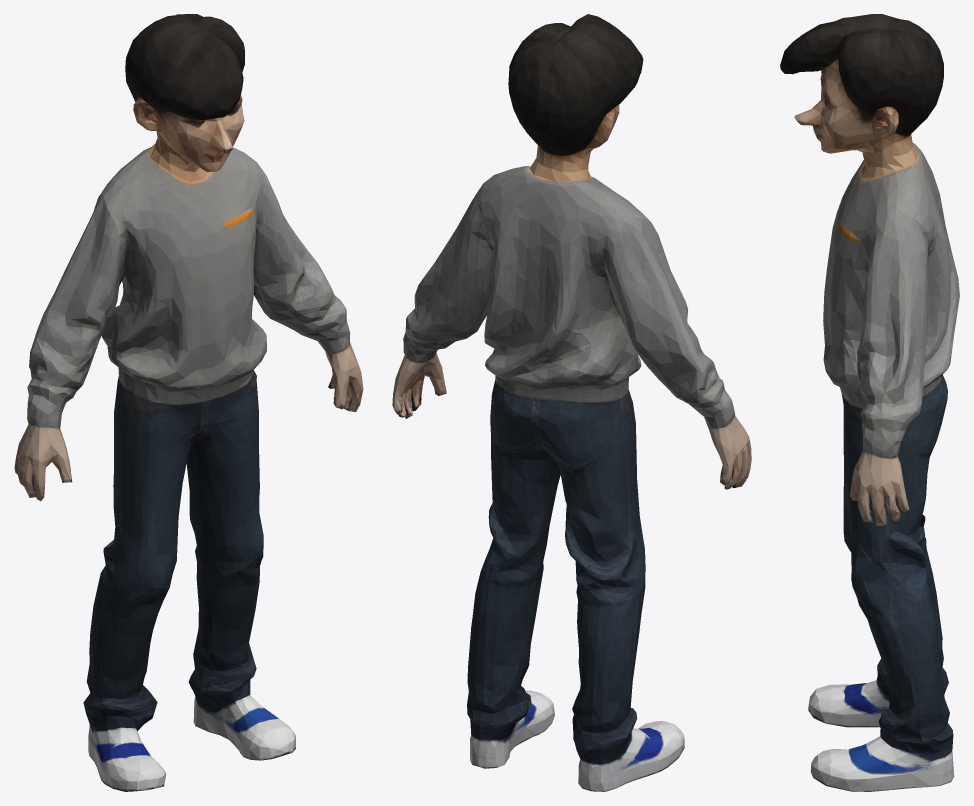
File: boy_sam3d.glb
The picture shows the model from 3 angles, left to right: view 1: azimuth 30°, elevation 25°; view 2: azimuth 150°, elevation 25°; view 3: azimuth 270°, elevation 25°; orthographic projection.
Visible parts, largest first — view 1: geometry_0; view 2: geometry_0; view 3: geometry_0.
Part boxes in pixels (x1,y1,x2,y2): geometry_0: (14,14,363,791); geometry_0: (392,14,751,791); geometry_0: (780,14,959,791).
Size of the model in its own units: 0.4912 by 0.999 by 0.2232.
1 material, 1 textured.
